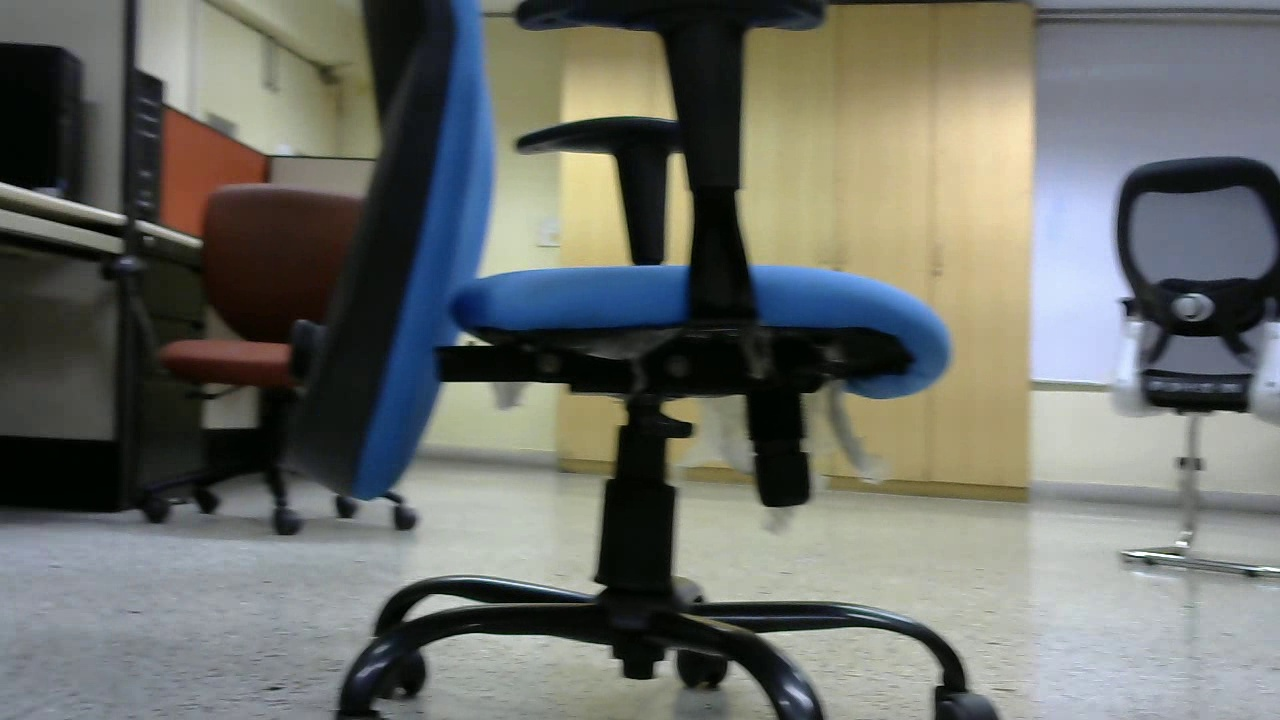chair: (293, 1, 1017, 720), (108, 159, 423, 533)
